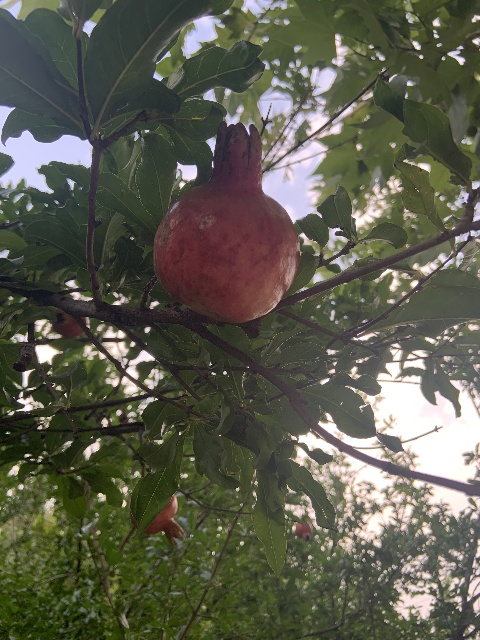ripe: (150, 123, 300, 322), (142, 493, 184, 544), (51, 310, 86, 337), (295, 521, 310, 541)
